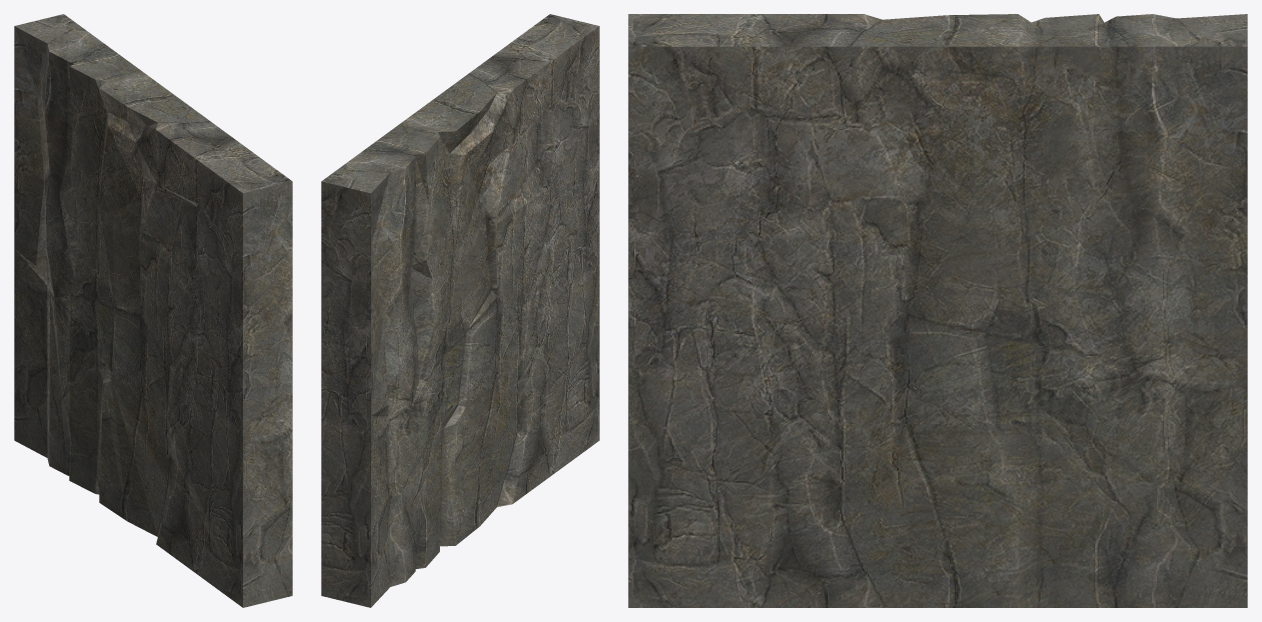
Rendered from bg_anh_stone_rocktile_sm_phs.FBX.
3 renders of one model, left to right at view 1: azimuth 30°, elevation 25°; view 2: azimuth 150°, elevation 25°; view 3: azimuth 270°, elevation 25°, orthographic. The views are drawn at different scales.
Parts seen in each view (by area): view 1: bg_anh_stone_rocktile_sm_phs; view 2: bg_anh_stone_rocktile_sm_phs; view 3: bg_anh_stone_rocktile_sm_phs.
Part boxes in pixels (x1,y1,x2,y2): bg_anh_stone_rocktile_sm_phs: (14, 14, 292, 607); bg_anh_stone_rocktile_sm_phs: (321, 14, 599, 607); bg_anh_stone_rocktile_sm_phs: (628, 14, 1247, 607).
Bounding box in the file's own units: 65.2 × 515 × 512.
